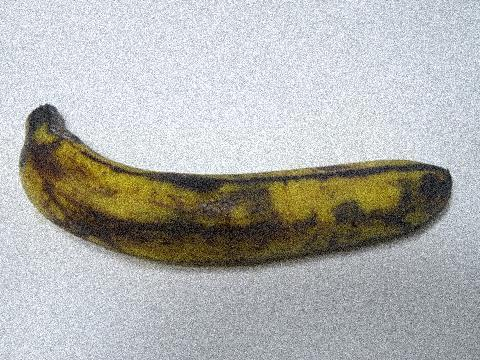overripe: (11, 87, 463, 288)
